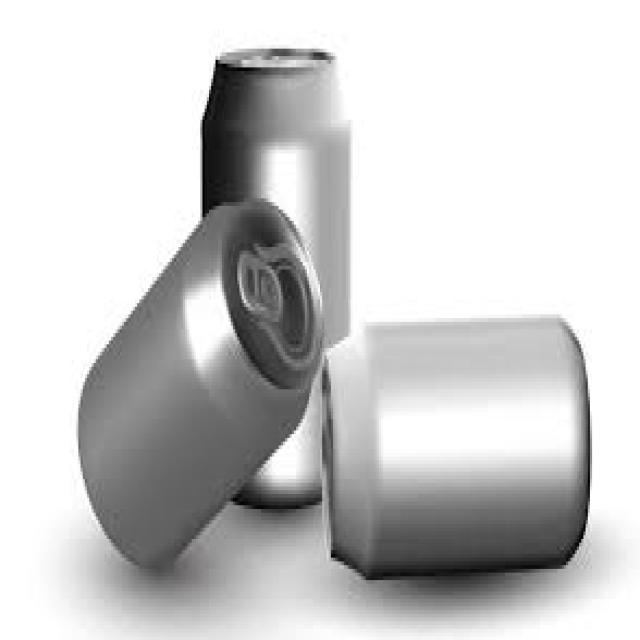metal: (76, 191, 322, 573), (318, 311, 590, 569), (198, 49, 348, 509)
